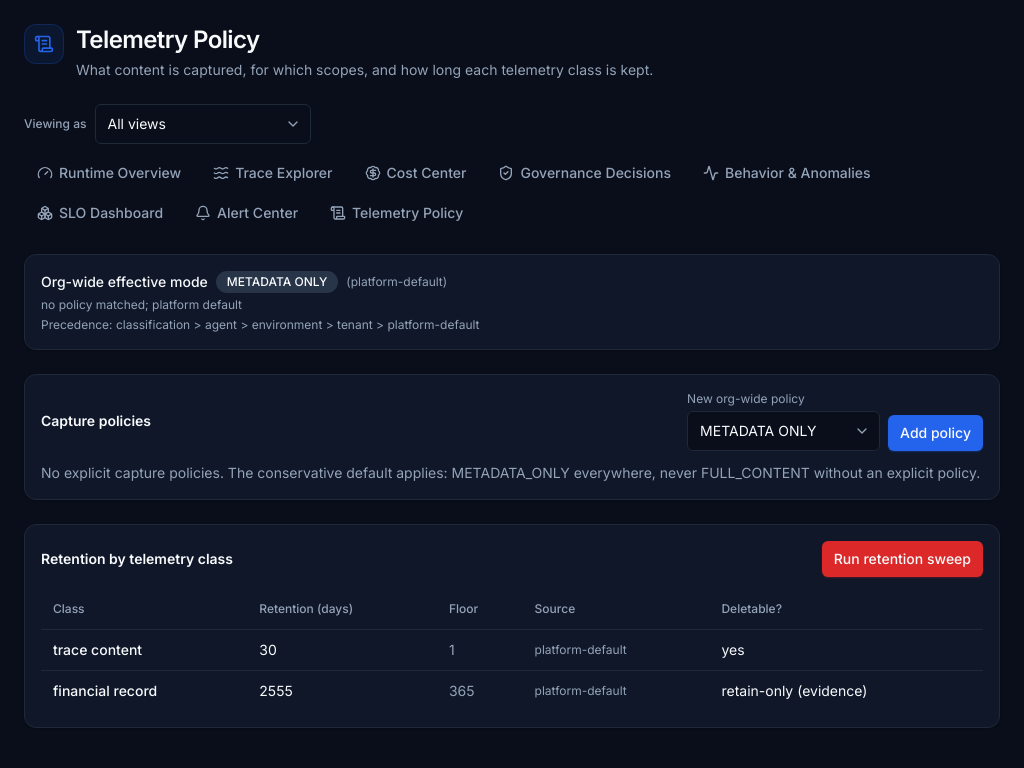
Test: AC-11 / AC-12 — Telemetry Policy dangerous actions › running retention is confirmation-gated
This screenshot has width=1024, height=768.
Click the button "Run retention sweep": (902, 559) [822,541,983,577]
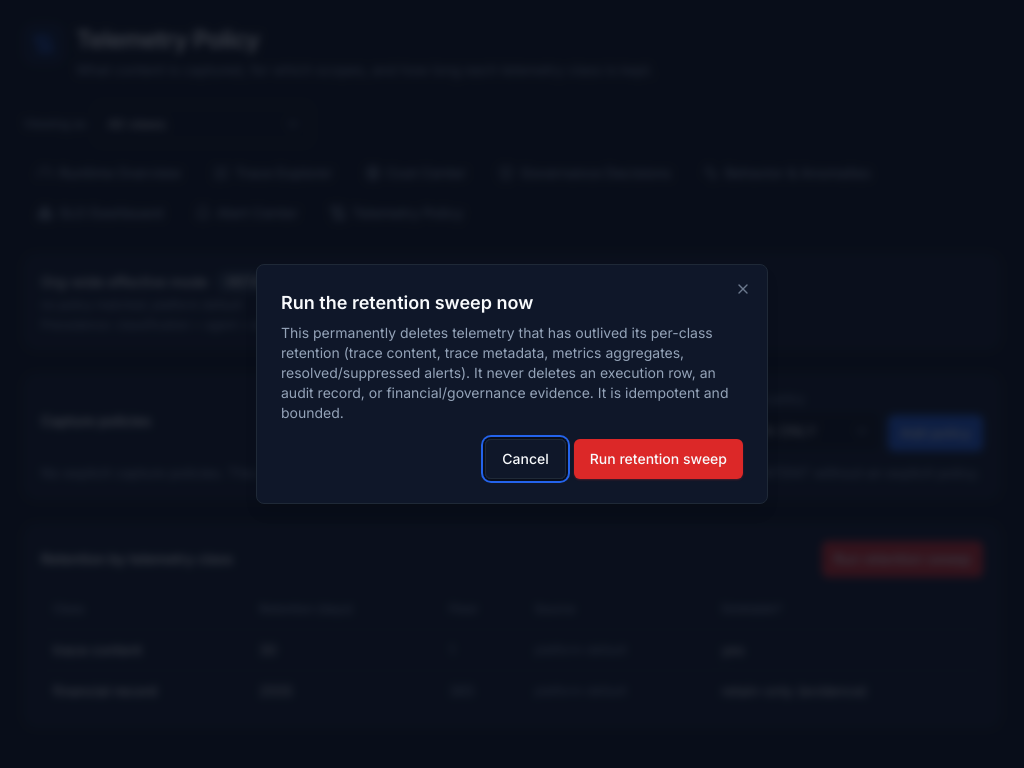
Check: the text "permanently deletes telemetry" is shown, box [281,324,728,421]
